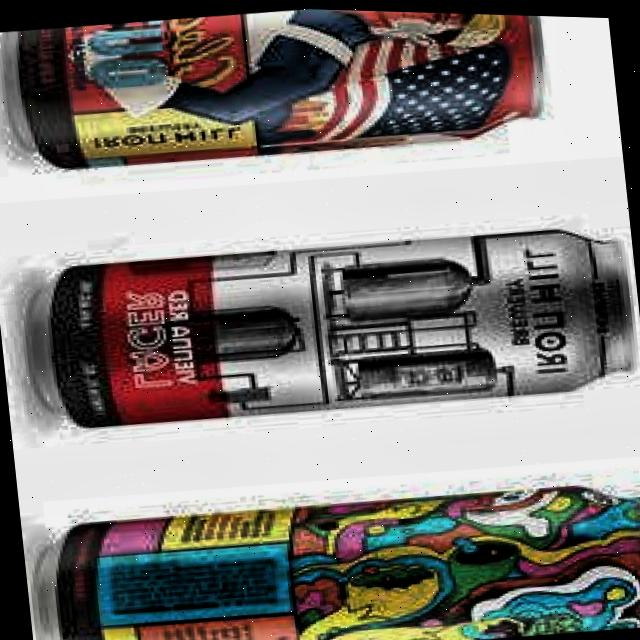metal: (4, 199, 640, 455), (19, 449, 640, 640), (0, 0, 561, 199)
